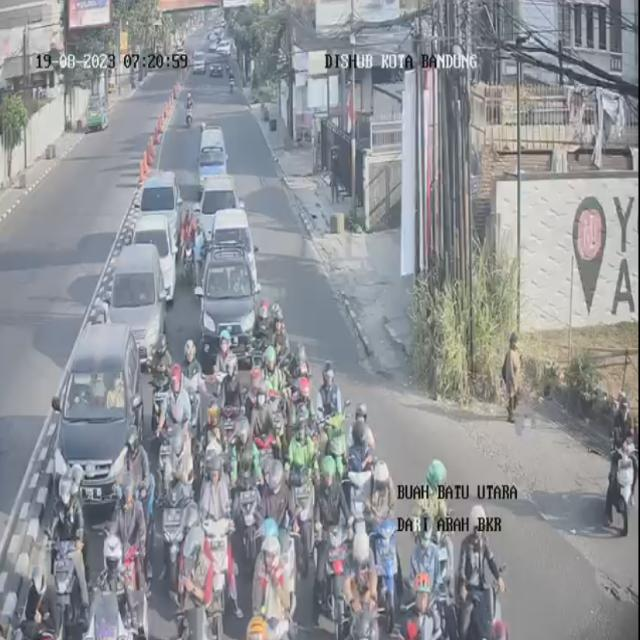cars: (55, 324, 142, 518), (109, 241, 169, 367), (195, 240, 255, 360), (200, 205, 254, 284), (134, 214, 179, 292), (140, 172, 187, 243), (198, 175, 238, 249), (198, 126, 229, 198)
motorcycle: (419, 448, 460, 634), (360, 462, 403, 627), (49, 463, 84, 640), (456, 527, 506, 639), (334, 532, 386, 638), (229, 420, 267, 564), (341, 402, 376, 558), (319, 452, 351, 622), (190, 442, 229, 578), (260, 462, 300, 594), (162, 435, 196, 590), (123, 432, 156, 590), (119, 477, 152, 624), (180, 529, 220, 640), (89, 541, 133, 640), (291, 412, 318, 570), (258, 538, 296, 639), (21, 555, 61, 640), (150, 341, 180, 438), (178, 339, 201, 445), (220, 360, 243, 456), (200, 403, 222, 497), (248, 365, 268, 462), (254, 386, 272, 486), (294, 377, 315, 450), (260, 352, 280, 424), (319, 362, 339, 423), (146, 130, 162, 177), (141, 132, 156, 178), (183, 91, 196, 128)
